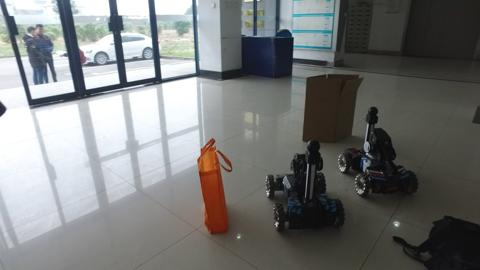bag: (193, 139, 235, 235)
box: (307, 75, 352, 140)
chariot: (266, 137, 346, 232), (341, 110, 420, 200)
